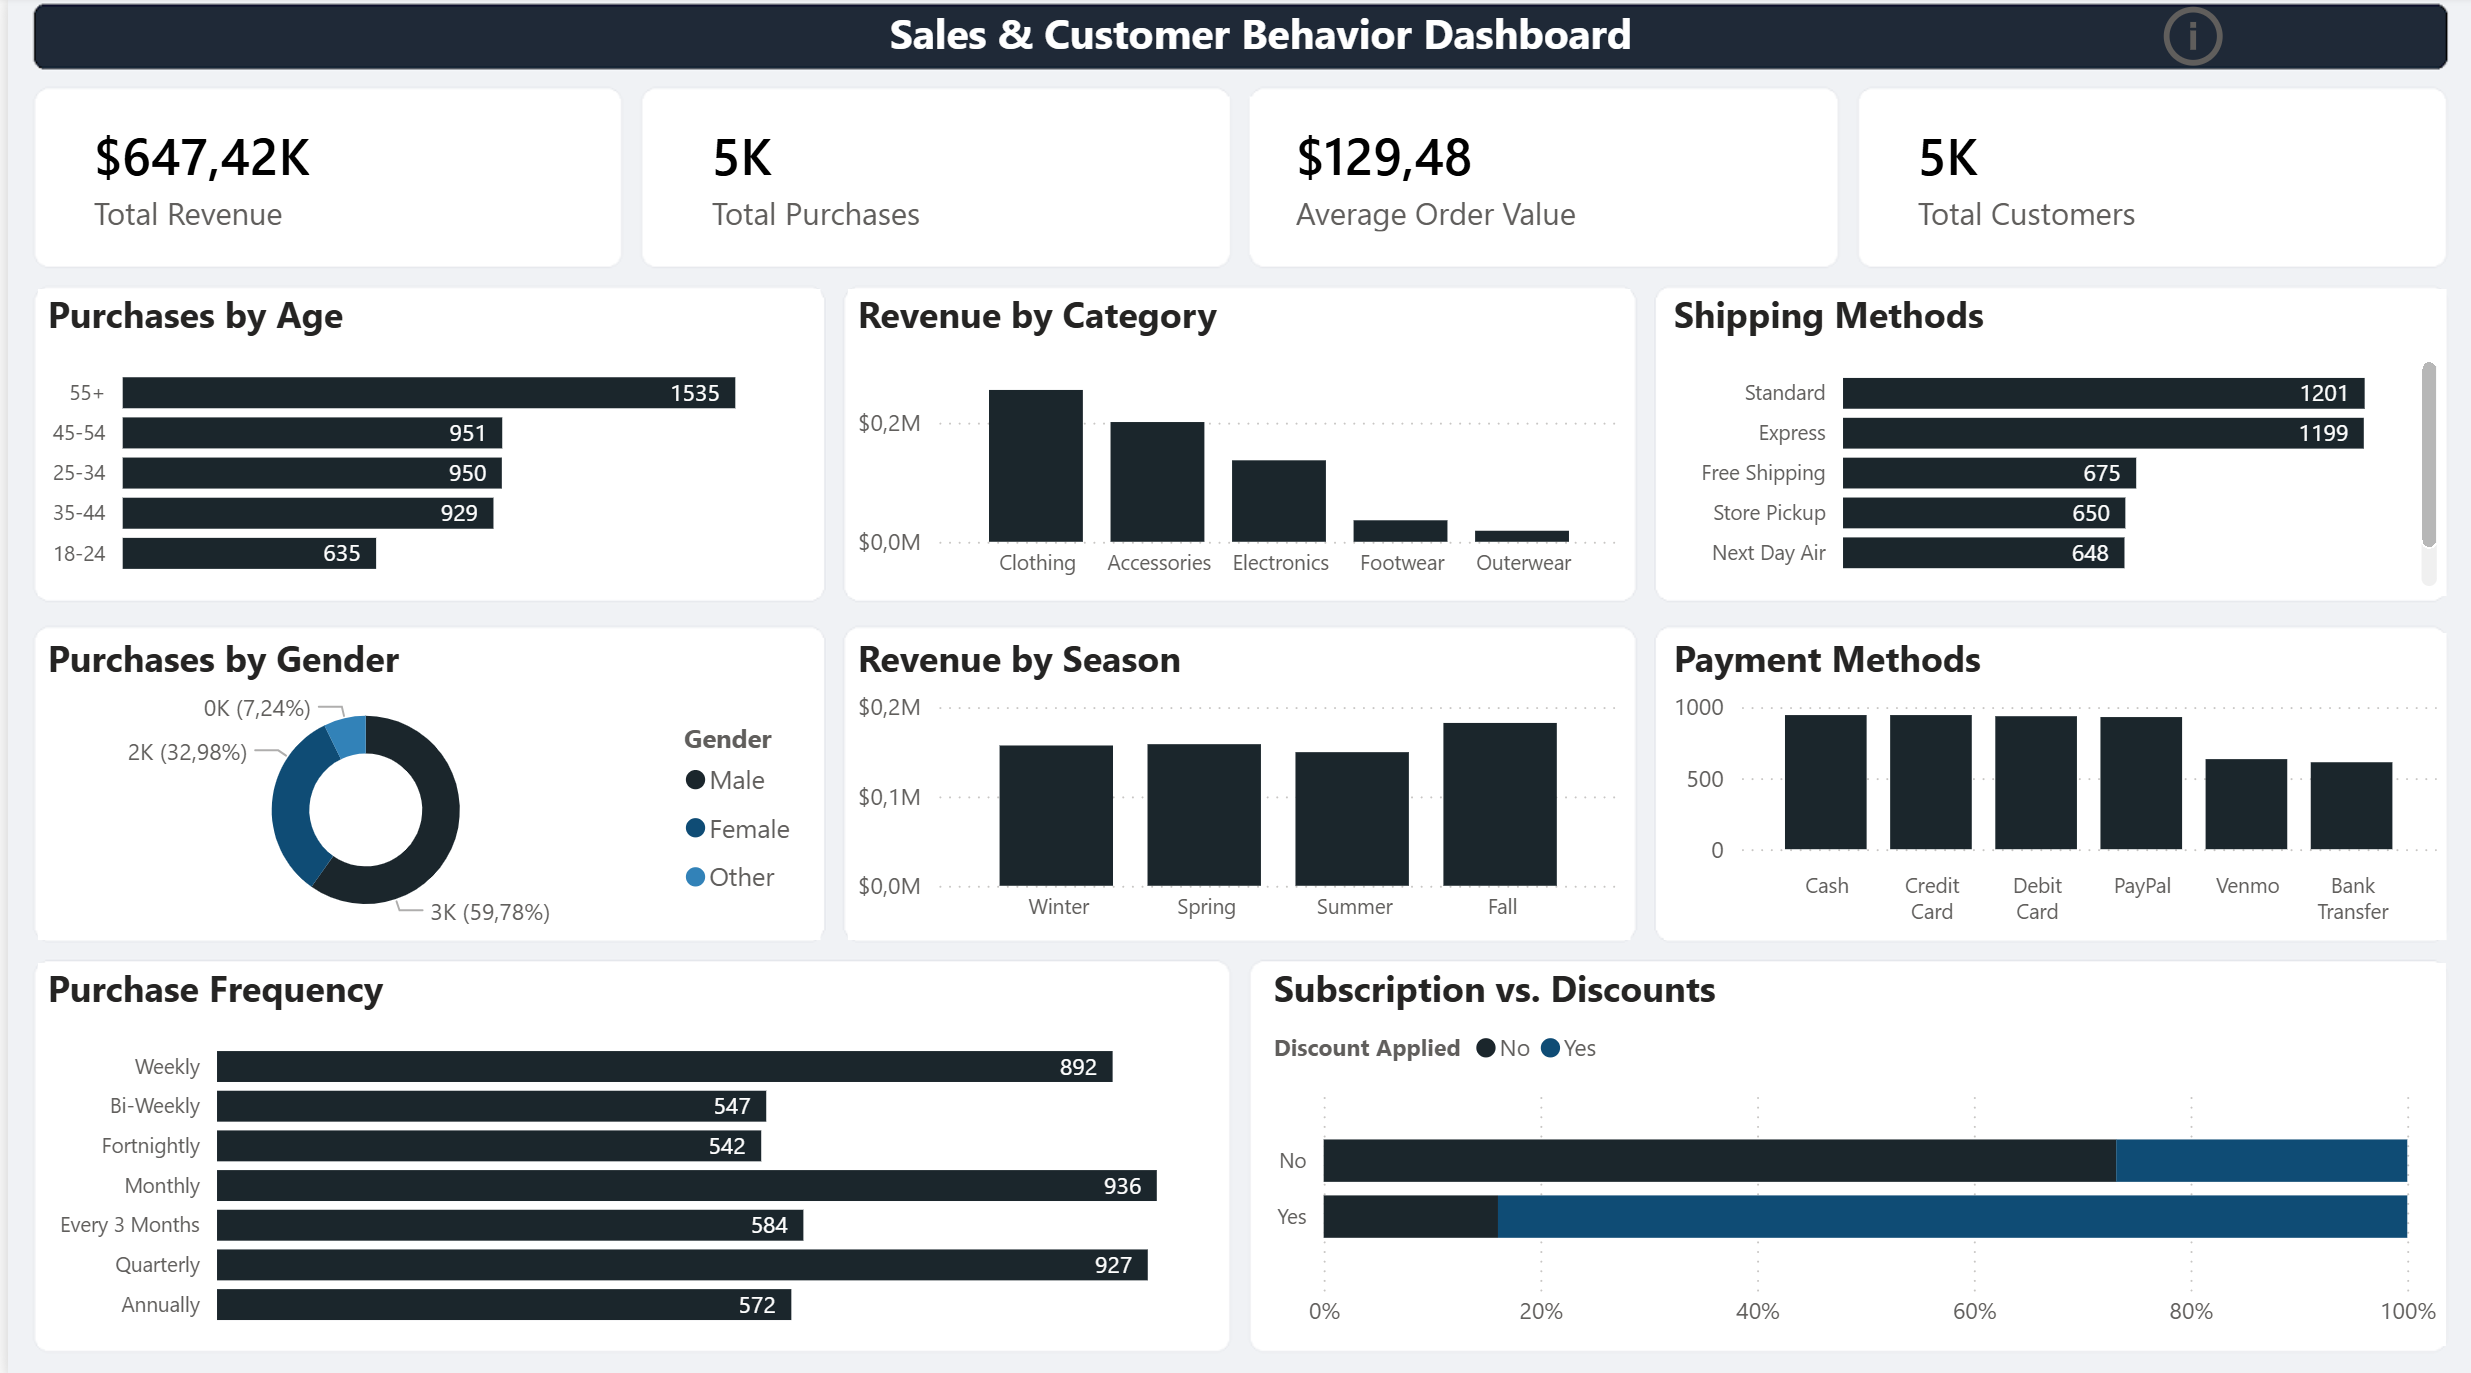

The dashboard page shown, as its layout file describes it:
{"tool":"powerbi","page":{"name":"Page 1","canvas":[1280,720],"ordinal":0},"visuals":[{"type":"cardVisual","fields":{"Data":["Sales_Clean.Total Revenue"]},"box":[15.1,48.1,303.5,92],"z":0},{"type":"cardVisual","fields":{"Data":["Sales_Clean.Total Purchases"]},"box":[336.5,48.1,303.5,92],"z":1000},{"type":"cardVisual","fields":{"Data":["Sales_Clean.Average Order Value"]},"box":[640,48.1,303.5,92],"z":2000},{"type":"cardVisual","fields":{"Data":["Sales_Clean.Total Customers"]},"box":[962.7,48.1,303.5,92],"z":3000},{"type":"clusteredBarChart","title":"Purchases by Age","fields":{"Category":["Sales_Clean.Age Group"],"Y":["Sales_Clean.Total Purchases"]},"box":[15.1,152.4,406.5,159.3],"z":4000},{"type":"donutChart","title":"Purchases by Gender","fields":{"Category":["Sales_Clean.Gender"],"Y":["Sales_Clean.Total Purchases"]},"box":[15.1,331,406.5,159.3],"z":5000},{"type":"clusteredColumnChart","title":"Revenue by Category","fields":{"Category":["Sales_Clean.Category"],"Y":["Sales_Clean.Total Revenue"]},"box":[436.7,152.4,406.5,159.3],"z":6000},{"type":"clusteredBarChart","title":"Shipping Methods","fields":{"Category":["Sales_Clean.Shipping Type"],"Y":["Sales_Clean.Total Purchases"]},"box":[859.7,152.4,406.5,159.3],"z":7000},{"type":"clusteredColumnChart","title":"Payment Methods","fields":{"Category":["Sales_Clean.Payment Method"],"Y":["Sales_Clean.Total Purchases"]},"box":[859.7,331,406.5,159.3],"z":8000},{"type":"clusteredColumnChart","title":"Revenue by Season","fields":{"Category":["Sales_Clean.Season"],"Y":["Sales_Clean.Total Revenue"]},"box":[436.7,331,406.5,159.3],"z":9000},{"type":"clusteredBarChart","title":"Purchase Frequency","fields":{"Category":["Sales_Clean.Frequency of Purchases"],"Y":["Sales_Clean.Total Purchases"]},"box":[15.1,502.7,613.9,199.1],"z":10000},{"type":"hundredPercentStackedBarChart","title":"Subscription vs. Discounts","fields":{"Category":["Sales_Clean.Subscription Status"],"Series":["Sales_Clean.Discount Applied"],"Y":["Sales_Clean.Total Purchases"]},"box":[652.4,502.7,613.9,199.1],"z":11000},{"type":"actionButton","box":[1114.8,1.2,100.1,40.7],"z":12000},{"type":"textbox","box":[452.7,0,400.3,131.5],"z":14000}]}

Visuals, with their boxes in screenshot pixels (x1, y1, x2, y2), scaled from the page's 1280x720 canvas onto the 2471x1373 screenshot:
cardVisual - Sales_Clean.Total Revenue: <region>29, 92, 615, 267</region>
cardVisual - Sales_Clean.Total Purchases: <region>650, 92, 1236, 267</region>
cardVisual - Sales_Clean.Average Order Value: <region>1236, 92, 1821, 267</region>
cardVisual - Sales_Clean.Total Customers: <region>1858, 92, 2444, 267</region>
"Purchases by Age" clusteredBarChart: <region>29, 291, 814, 594</region>
"Purchases by Gender" donutChart: <region>29, 631, 814, 935</region>
"Revenue by Category" clusteredColumnChart: <region>843, 291, 1628, 594</region>
"Shipping Methods" clusteredBarChart: <region>1660, 291, 2444, 594</region>
"Payment Methods" clusteredColumnChart: <region>1660, 631, 2444, 935</region>
"Revenue by Season" clusteredColumnChart: <region>843, 631, 1628, 935</region>
"Purchase Frequency" clusteredBarChart: <region>29, 959, 1214, 1338</region>
"Subscription vs. Discounts" hundredPercentStackedBarChart: <region>1259, 959, 2445, 1338</region>
actionButton: <region>2152, 2, 2345, 80</region>
textbox: <region>874, 0, 1647, 251</region>
